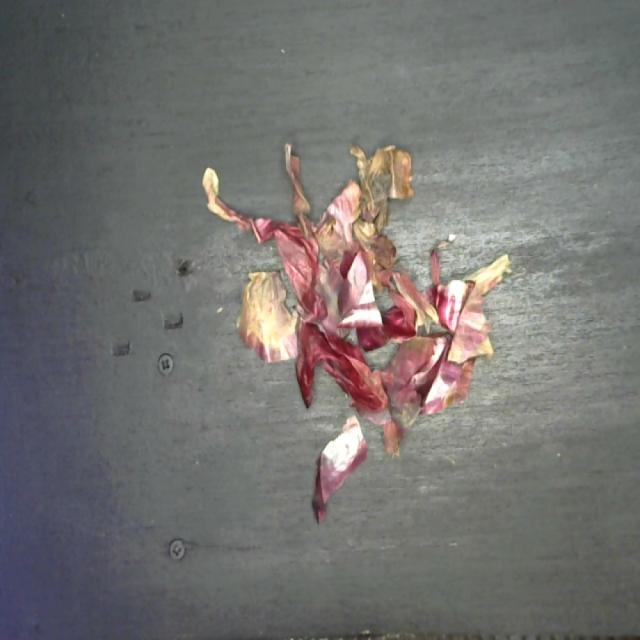biodegradable: (196, 130, 514, 518)
